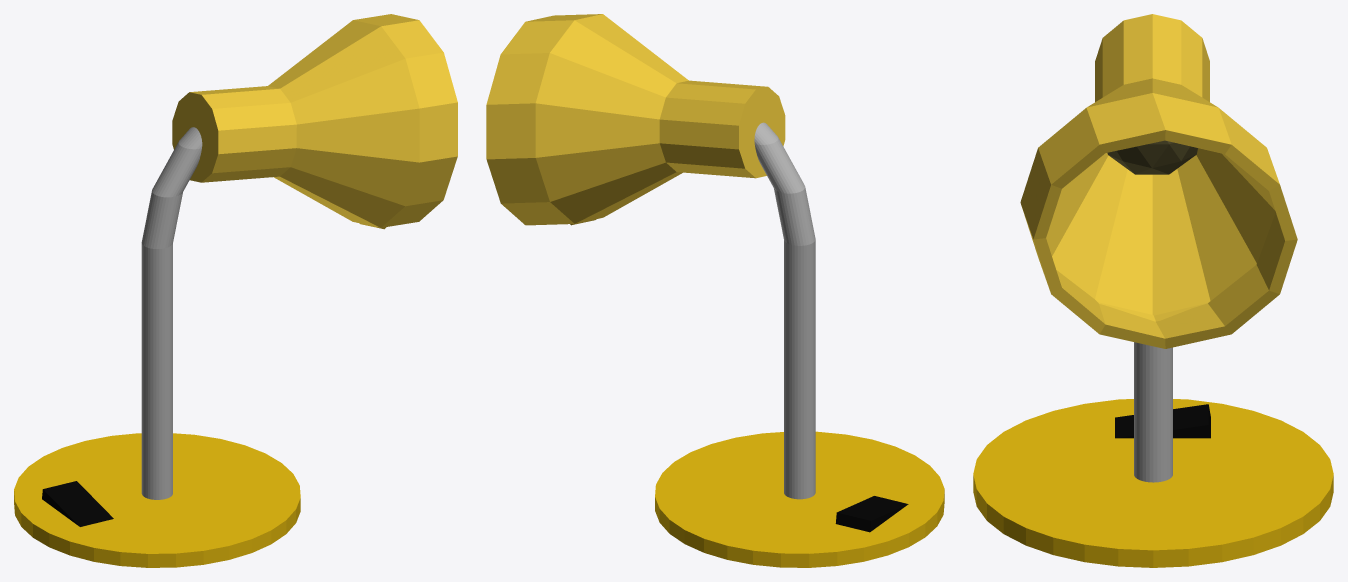
The model's file is Lampara.fbx.
The picture shows the model from 3 angles, left to right: view 1: azimuth 30°, elevation 25°; view 2: azimuth 150°, elevation 25°; view 3: azimuth 270°, elevation 25°; orthographic projection. The views are drawn at different scales.
Parts seen in each view (by area): view 1: Lampara; view 2: Lampara; view 3: Lampara.
Part boxes in pixels (left/top/right/bottom): Lampara: left=14, top=14, right=457, bottom=567; Lampara: left=486, top=14, right=944, bottom=567; Lampara: left=973, top=14, right=1333, bottom=567.
Bounding box in the file's own units: 7552 × 7914 × 4802.
